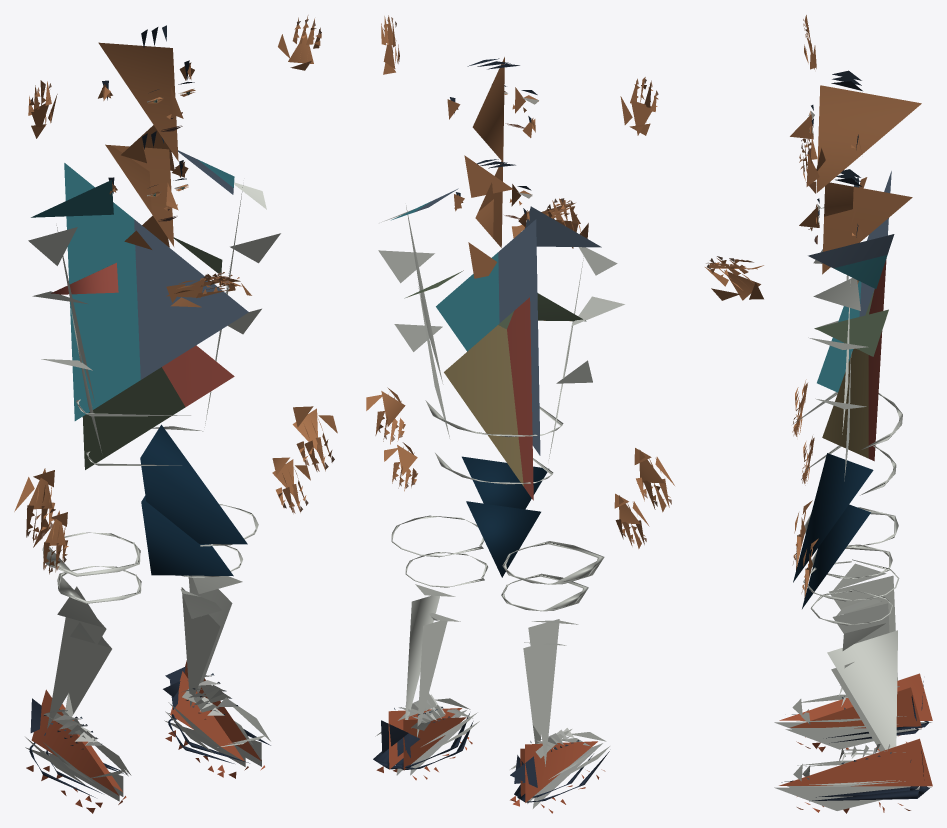
File: crowd-six.glb
3 views of the same model, side by side, from view 1: azimuth 30°, elevation 25°; view 2: azimuth 150°, elevation 25°; view 3: azimuth 270°, elevation 25° (orthographic). The views are drawn at different scales.
Visible parts, largest first — view 1: spectator_0, spectator_4, spectator_5, spectator_2, spectator_1; view 2: spectator_0, spectator_4, spectator_1, spectator_5, spectator_2; view 3: spectator_4, spectator_0, spectator_1, spectator_5, spectator_2.
Part boxes in pixels (box(x1,y1,x2,y2)): spectator_0: box(14, 28, 337, 805); spectator_4: box(25, 25, 268, 813); spectator_5: box(33, 17, 321, 807); spectator_2: box(28, 15, 320, 803); spectator_1: box(28, 80, 310, 798); spectator_0: box(366, 57, 674, 813); spectator_4: box(373, 61, 624, 811); spectator_1: box(384, 77, 658, 807); spectator_5: box(381, 15, 649, 807); spectator_2: box(383, 24, 658, 800); spectator_4: box(705, 77, 931, 813); spectator_0: box(774, 70, 932, 812); spectator_1: box(790, 15, 921, 804); spectator_5: box(800, 138, 918, 807); spectator_2: box(785, 15, 918, 806).
Size of the model in its own units: 0.8209 by 1.8 by 0.5354.
